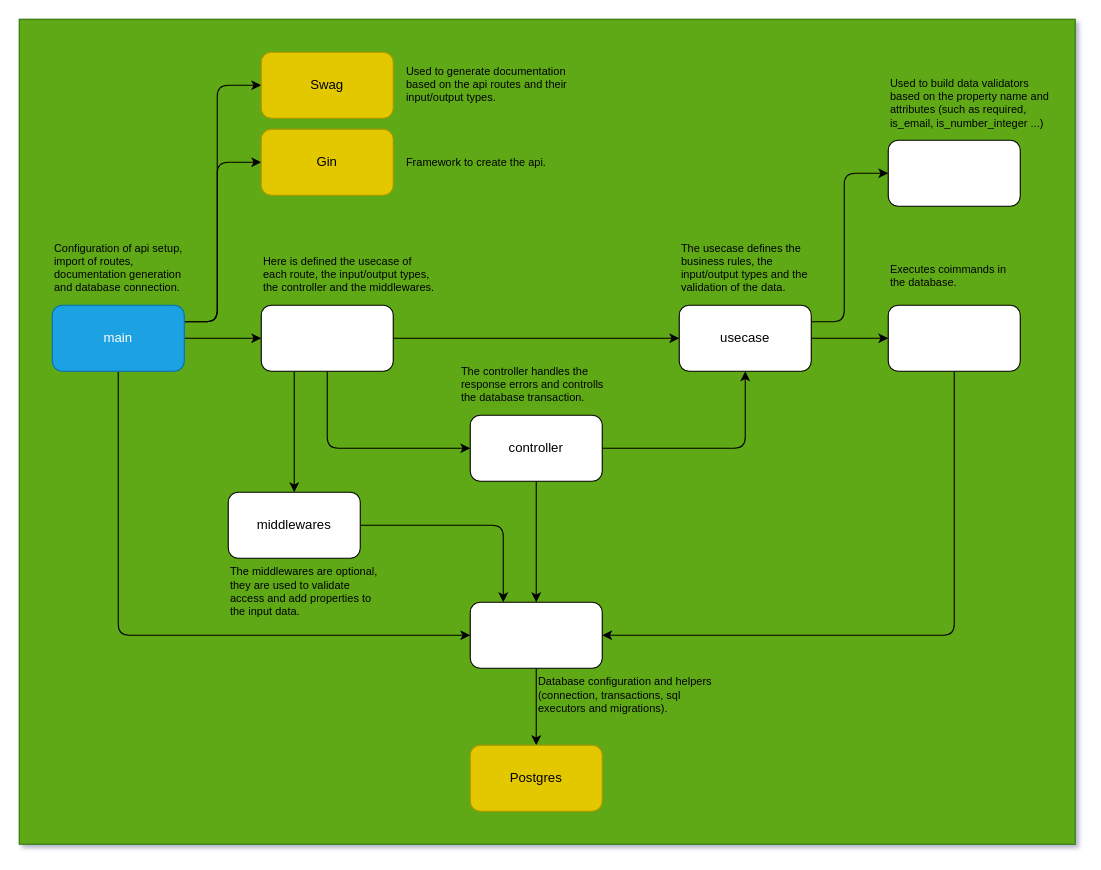
Image size: 1101x870. Some labels were removed from this diagram. Each missing label, with the centre of its shape:
database: point (535, 634)
repository: point (953, 337)
route: point (326, 337)
validator_builder: point (953, 172)
